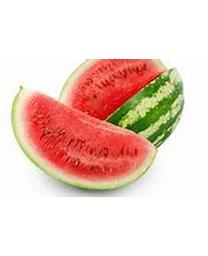watermelon: (9, 82, 159, 191), (56, 56, 186, 150)
